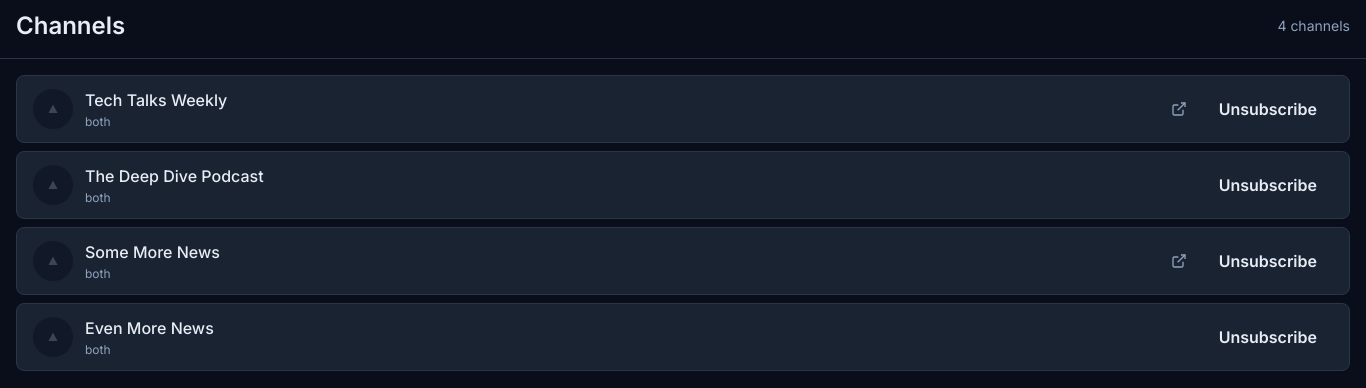
it: Channels screen — subscriptions only (live-test Task 4) › Unsubscribe hides the row without deleting the channel
Expected: the text "Tech Talks Weekly" is shown, [85, 88, 227, 112]
Click the button with aria-label "Unsubscribe from Tech Talks Weekly". click: (1268, 109)
box: [1203, 89, 1333, 129]
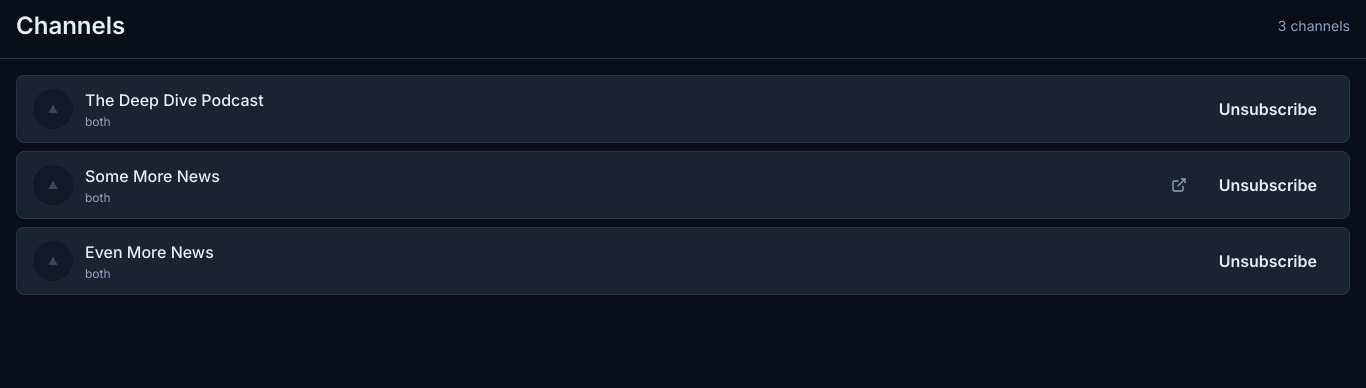
Now the button "Tech Talks Weekly" is gone
